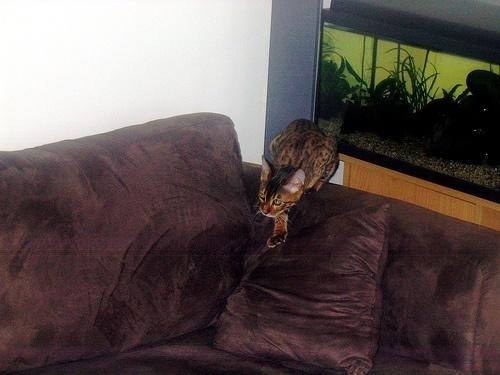cat: (258, 118, 341, 250)
sofa: (2, 111, 500, 375)
